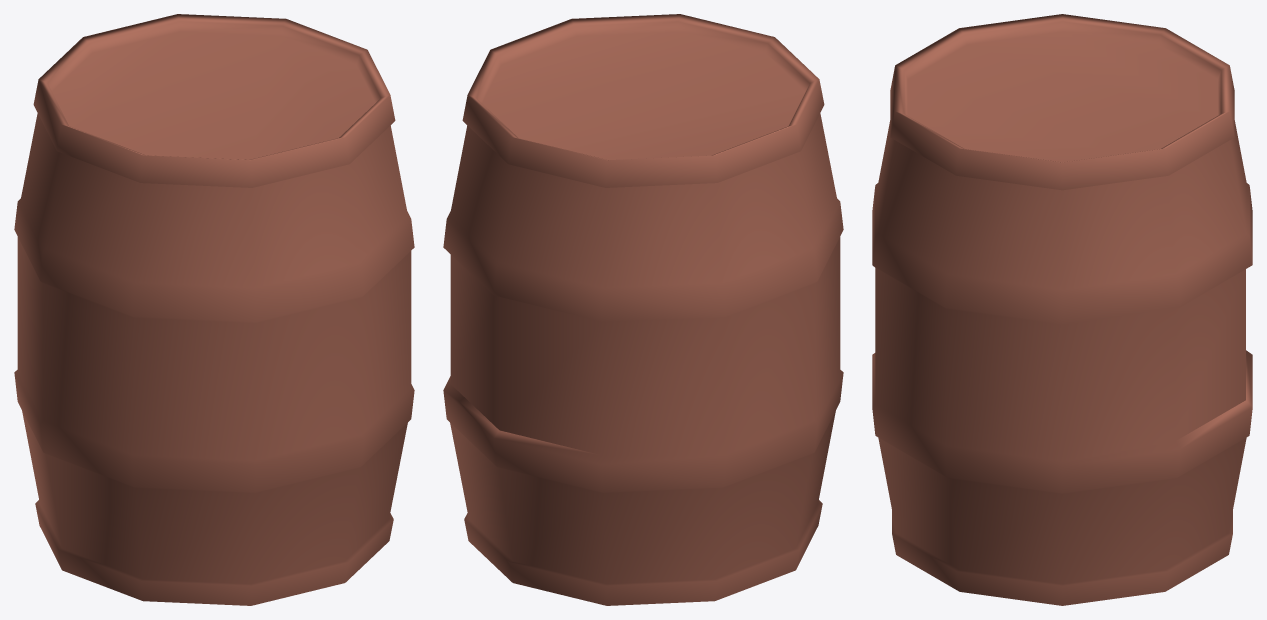
The model's file is barrel.fbx.
3 views of the same model, side by side, from view 1: azimuth 30°, elevation 25°; view 2: azimuth 150°, elevation 25°; view 3: azimuth 270°, elevation 25° (orthographic).
Visible parts, largest first — view 1: barrel; view 2: barrel; view 3: barrel.
Boxes of the visible parts, box(x1,y1,x2,y2) form: barrel: box(14, 14, 414, 605); barrel: box(443, 14, 843, 605); barrel: box(872, 14, 1252, 605).
Size of the model in its own units: 813 by 994 by 773.
